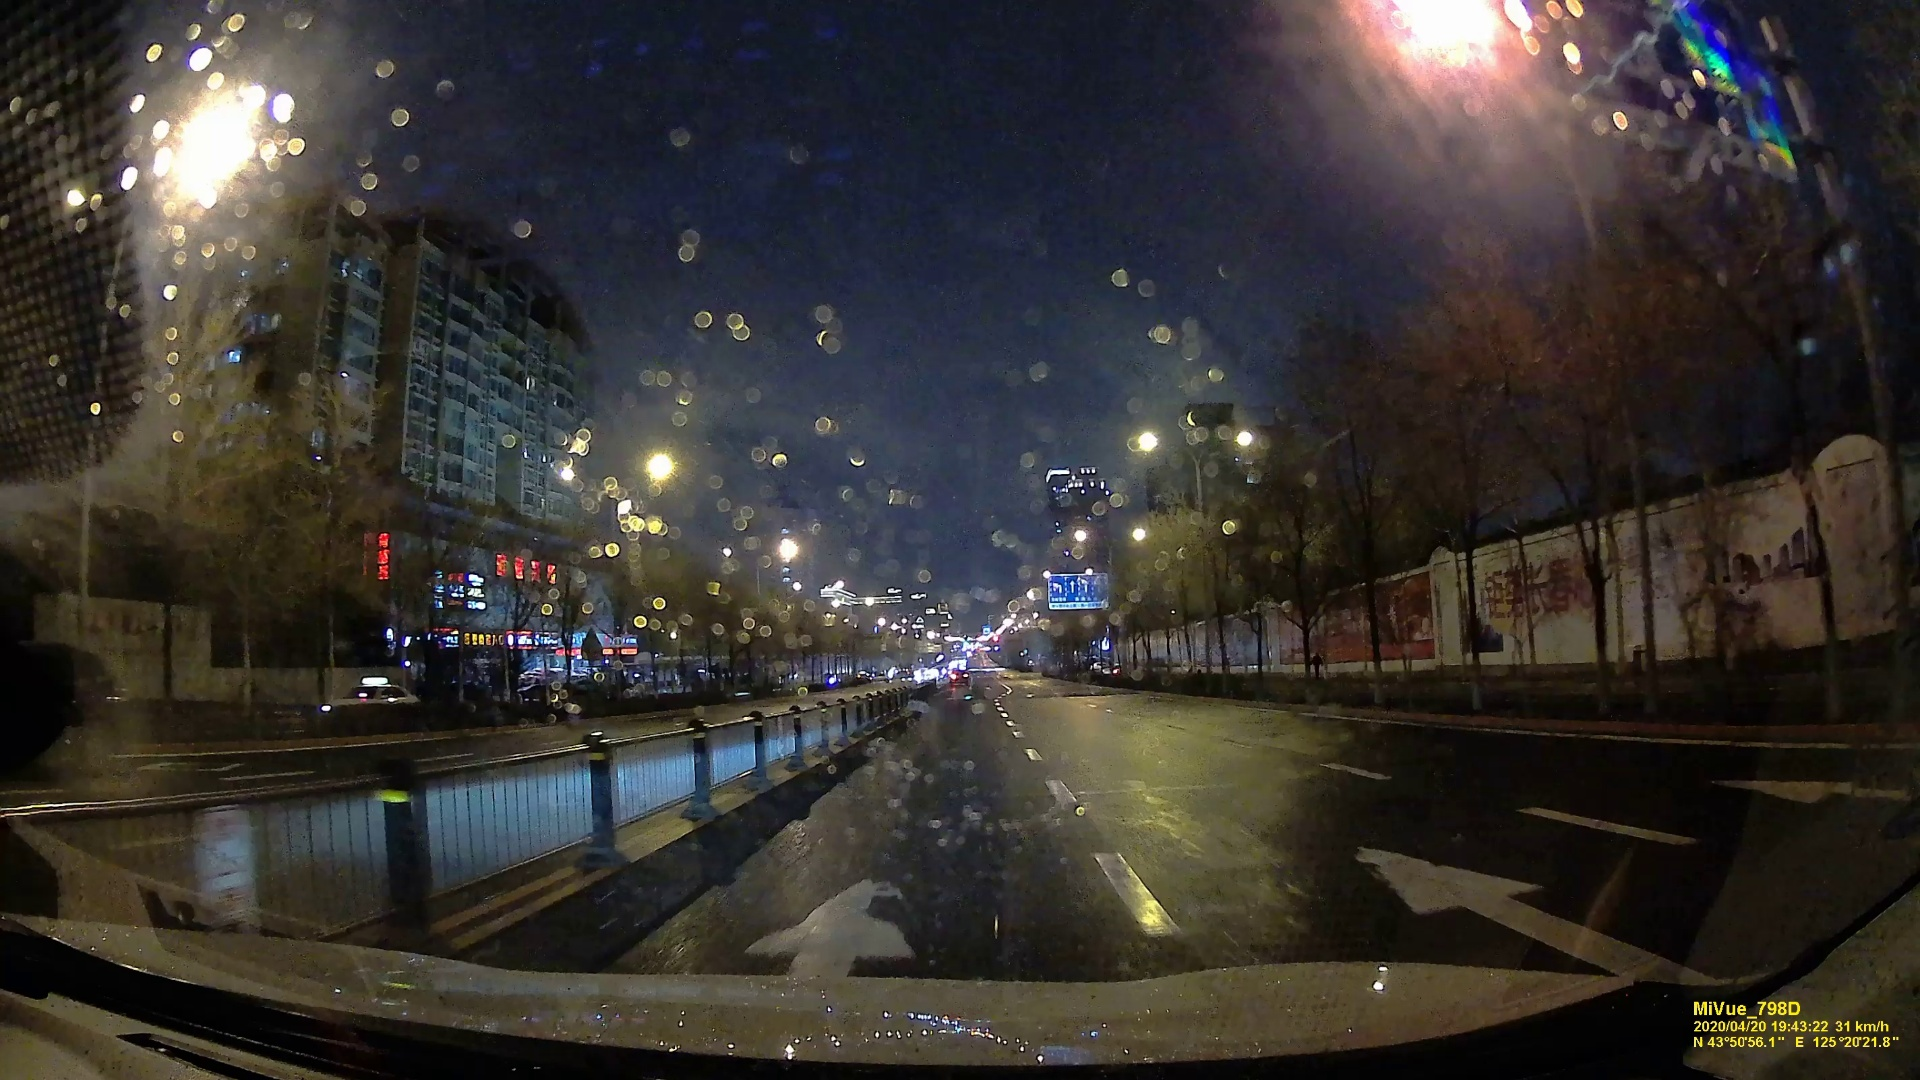traffic_sign: (1044, 572, 1106, 608)
vehicle: (320, 676, 419, 720), (948, 667, 969, 687)
